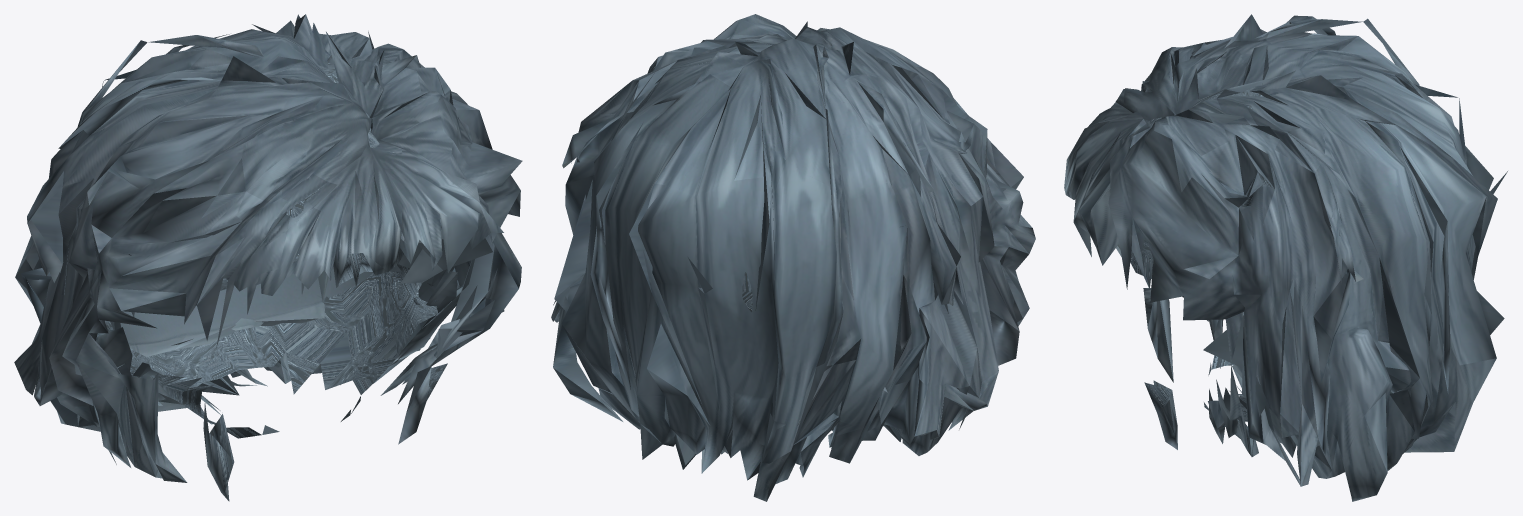
Rendered from medio_franja.glb.
3 renders of one model, left to right at view 1: azimuth 30°, elevation 25°; view 2: azimuth 150°, elevation 25°; view 3: azimuth 270°, elevation 25°, orthographic. The views are drawn at different scales.
Parts seen in each view (by area): view 1: cabelo_medio_franja; view 2: cabelo_medio_franja; view 3: cabelo_medio_franja.
Boxes of the visible parts, bbox=[...] form: cabelo_medio_franja: bbox=[14, 14, 522, 501]; cabelo_medio_franja: bbox=[551, 14, 1035, 501]; cabelo_medio_franja: bbox=[1064, 14, 1507, 501].
Size of the model in its own units: 0.1906 by 0.162 by 0.16.
1 material, 1 textured.
